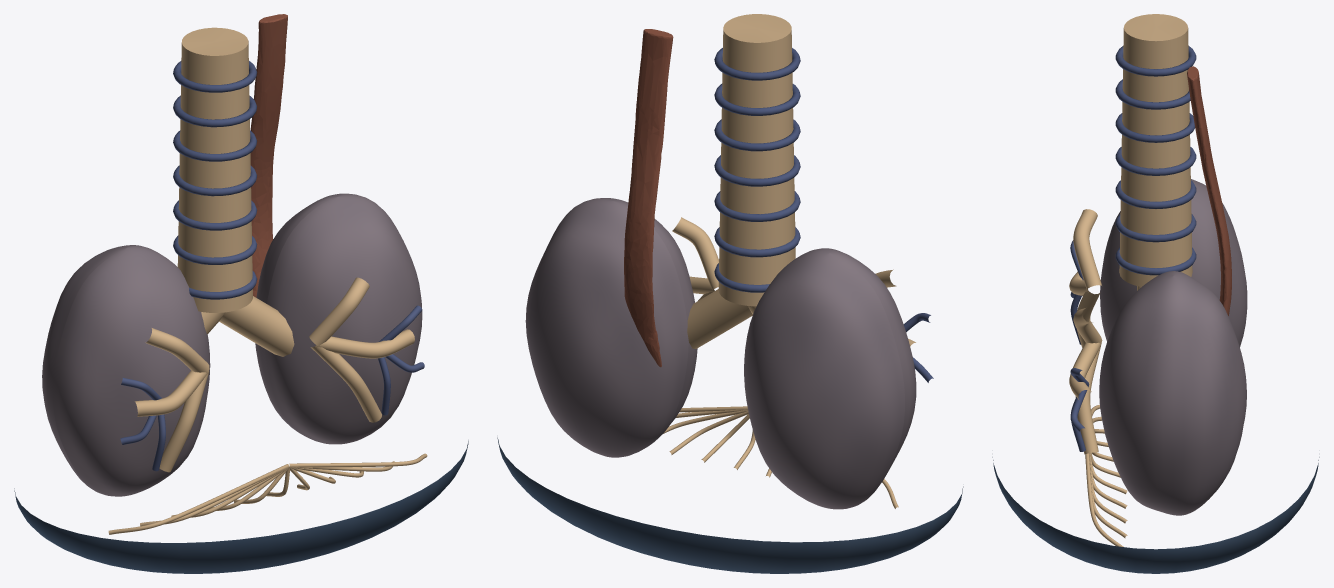
The model's file is airway-diaphragm.b587fae5.glb.
The picture shows the model from 3 angles, left to right: view 1: azimuth 30°, elevation 25°; view 2: azimuth 150°, elevation 25°; view 3: azimuth 270°, elevation 25°; orthographic projection. The views are drawn at different scales.
Parts seen in each view (by area): view 1: procedural-airway-diaphragm-surface-11, procedural-airway-diaphragm-surface-12, procedural-airway-diaphragm-surface-1, procedural-airway-diaphragm-surface-25, Esophagus, procedural-airway-diaphragm-surface-10, procedural-airway-diaphragm-surface-17, procedural-airway-diaphragm-surface-18, procedural-airway-diaphragm-surface-15, procedural-airway-diaphragm-surface-16, procedural-airway-diaphragm-surface-14, procedural-airway-diaphragm-surface-13 (+9 smaller); view 2: procedural-airway-diaphragm-surface-11, procedural-airway-diaphragm-surface-12, procedural-airway-diaphragm-surface-1, procedural-airway-diaphragm-surface-25, Esophagus, procedural-airway-diaphragm-surface-10, procedural-airway-diaphragm-surface-16, procedural-airway-diaphragm-surface-2, procedural-airway-diaphragm-surface-3, procedural-airway-diaphragm-surface-4, procedural-airway-diaphragm-surface-5, procedural-airway-diaphragm-surface-6 (+1 smaller); view 3: procedural-airway-diaphragm-surface-12, procedural-airway-diaphragm-surface-1, procedural-airway-diaphragm-surface-25, procedural-airway-diaphragm-surface-11, Esophagus, procedural-airway-diaphragm-surface-13, procedural-airway-diaphragm-surface-18, procedural-airway-diaphragm-surface-2, procedural-airway-diaphragm-surface-4, procedural-airway-diaphragm-surface-5, procedural-airway-diaphragm-surface-17, procedural-airway-diaphragm-surface-6 (+6 smaller).
Boxes of the visible parts, x1,y1,x2,y2 form: procedural-airway-diaphragm-surface-11: [42, 245, 210, 496]; procedural-airway-diaphragm-surface-12: [255, 193, 422, 444]; procedural-airway-diaphragm-surface-1: [177, 27, 252, 312]; procedural-airway-diaphragm-surface-25: [14, 440, 468, 573]; Esophagus: [250, 14, 287, 297]; procedural-airway-diaphragm-surface-10: [219, 296, 294, 356]; procedural-airway-diaphragm-surface-17: [316, 329, 414, 358]; procedural-airway-diaphragm-surface-18: [310, 345, 381, 422]; procedural-airway-diaphragm-surface-15: [159, 371, 209, 472]; procedural-airway-diaphragm-surface-16: [309, 277, 369, 346]; procedural-airway-diaphragm-surface-14: [134, 370, 208, 416]; procedural-airway-diaphragm-surface-13: [145, 328, 209, 373]; procedural-airway-diaphragm-surface-11: [744, 248, 916, 509]; procedural-airway-diaphragm-surface-12: [525, 198, 697, 457]; procedural-airway-diaphragm-surface-1: [718, 14, 795, 306]; procedural-airway-diaphragm-surface-25: [497, 437, 963, 573]; Esophagus: [624, 29, 673, 367]; procedural-airway-diaphragm-surface-10: [687, 289, 752, 348]; procedural-airway-diaphragm-surface-16: [672, 217, 718, 289]; procedural-airway-diaphragm-surface-2: [714, 48, 800, 80]; procedural-airway-diaphragm-surface-3: [714, 83, 800, 115]; procedural-airway-diaphragm-surface-4: [714, 119, 800, 151]; procedural-airway-diaphragm-surface-5: [714, 155, 800, 186]; procedural-airway-diaphragm-surface-6: [714, 191, 800, 221]; procedural-airway-diaphragm-surface-12: [1099, 271, 1246, 515]; procedural-airway-diaphragm-surface-1: [1119, 14, 1192, 286]; procedural-airway-diaphragm-surface-25: [992, 457, 1319, 573]; procedural-airway-diaphragm-surface-11: [1100, 179, 1247, 347]; Esophagus: [1187, 66, 1231, 315]; procedural-airway-diaphragm-surface-13: [1073, 209, 1101, 289]; procedural-airway-diaphragm-surface-18: [1075, 346, 1100, 454]; procedural-airway-diaphragm-surface-2: [1115, 46, 1196, 76]; procedural-airway-diaphragm-surface-4: [1115, 113, 1195, 142]; procedural-airway-diaphragm-surface-5: [1115, 147, 1196, 175]; procedural-airway-diaphragm-surface-17: [1069, 342, 1101, 399]; procedural-airway-diaphragm-surface-6: [1115, 180, 1196, 208].
Bounding box in the file's own units: 3.2 × 3.66 × 2.24.
